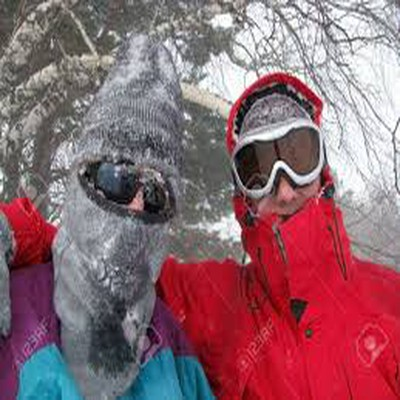eywear: (226, 111, 343, 200), (83, 139, 183, 225)
